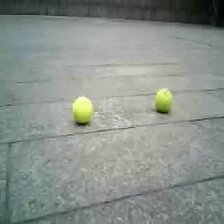tennis: (72, 98, 92, 124), (155, 89, 174, 111)
